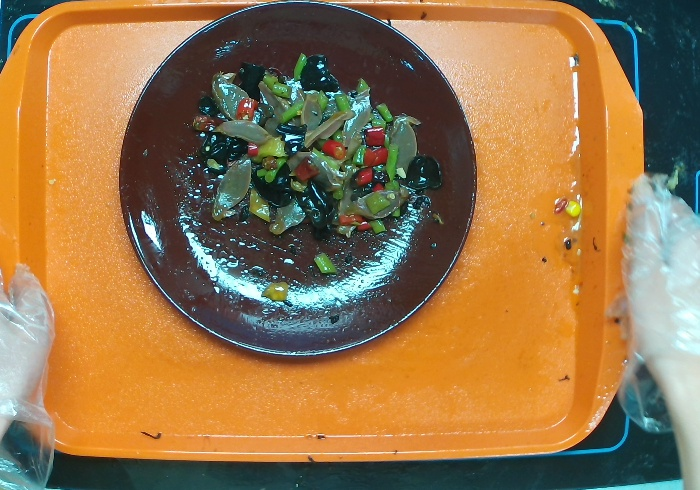HZYJPL-Ka_Fei_Yuan_Pan: (117, 1, 478, 361)
